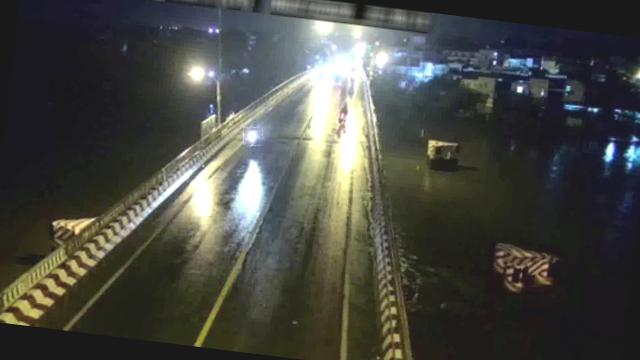Bike: (242, 125, 264, 146), (336, 100, 349, 124)
